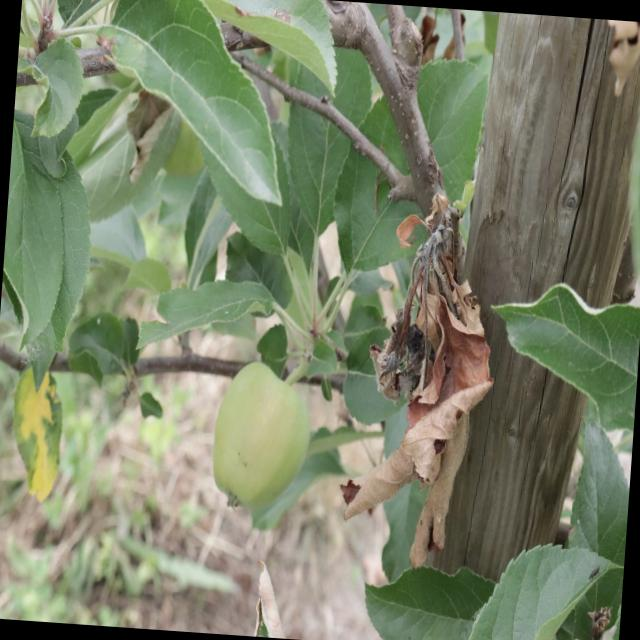-FireBlight-: (364, 211, 500, 559)
